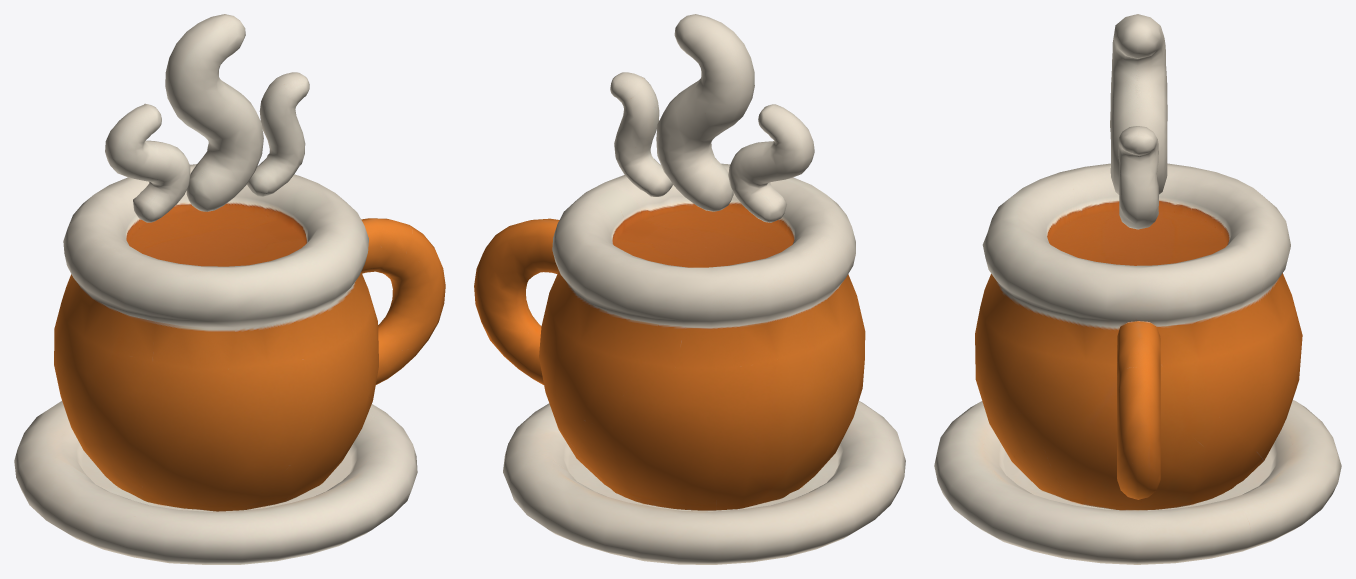
Rendered from gossip_cup.glb.
The picture shows the model from 3 angles, left to right: view 1: azimuth 30°, elevation 25°; view 2: azimuth 150°, elevation 25°; view 3: azimuth 270°, elevation 25°; orthographic projection.
Bounding box in the file's own units: 0.854 × 0.9517 × 0.7476.
Materials: 1 (1 with a texture image).
